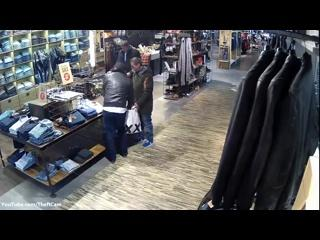Normal: (114, 38, 140, 72)
shoplifting: (101, 62, 134, 164), (128, 57, 154, 148)
